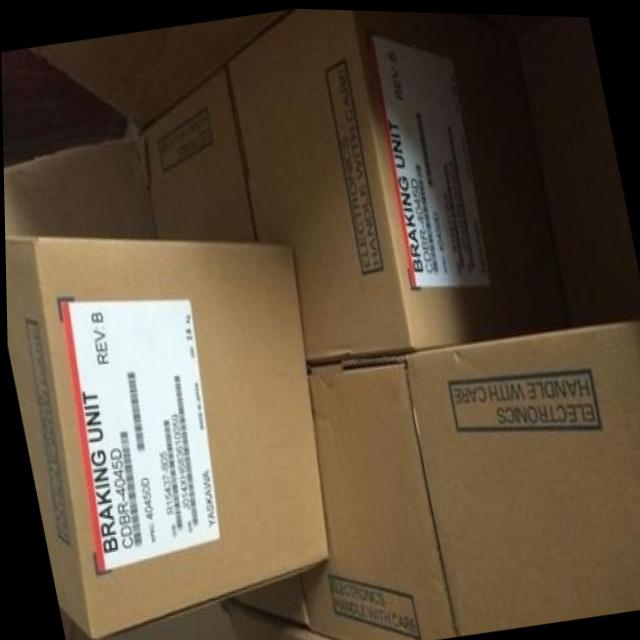box: (4, 234, 325, 640), (227, 7, 495, 362), (399, 313, 640, 634), (299, 351, 455, 640), (28, 7, 294, 129), (138, 65, 256, 242), (3, 132, 153, 238), (227, 603, 329, 640)
